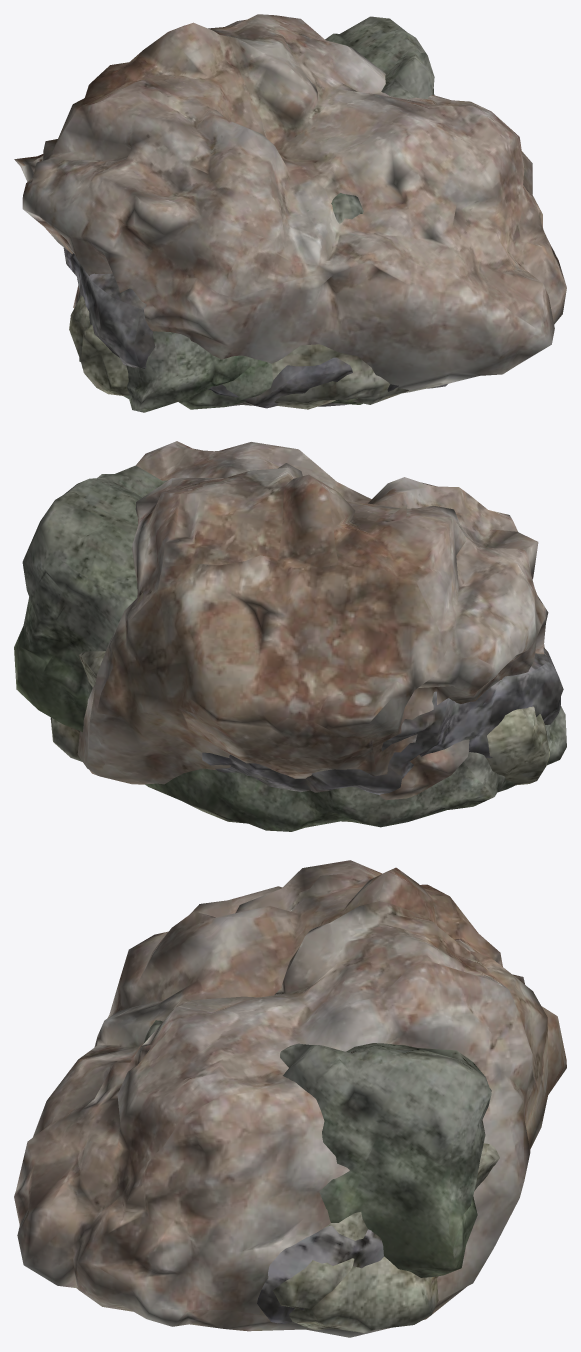
File: namaqualand_rocks_01.glb
The picture shows the model from 3 angles, top to bottom: view 1: azimuth 30°, elevation 25°; view 2: azimuth 150°, elevation 25°; view 3: azimuth 270°, elevation 25°; orthographic projection. The views are drawn at different scales.
Visible parts, largest first — view 1: namaqualand_rocks_01_a_LOD0, namaqualand_rocks_01_d_LOD0, namaqualand_rocks_01_c_LOD0, namaqualand_rocks_01_b_LOD0; view 2: namaqualand_rocks_01_a_LOD0, namaqualand_rocks_01_d_LOD0, namaqualand_rocks_01_c_LOD0, namaqualand_rocks_01_b_LOD0; view 3: namaqualand_rocks_01_a_LOD0, namaqualand_rocks_01_d_LOD0, namaqualand_rocks_01_b_LOD0, namaqualand_rocks_01_c_LOD0.
Part boxes in pixels (x1,y1,x2,y2): namaqualand_rocks_01_a_LOD0: (14,14,566,393); namaqualand_rocks_01_d_LOD0: (79,16,434,412); namaqualand_rocks_01_c_LOD0: (63,247,447,408); namaqualand_rocks_01_b_LOD0: (69,295,408,409); namaqualand_rocks_01_a_LOD0: (77,441,548,800); namaqualand_rocks_01_d_LOD0: (14,465,566,831); namaqualand_rocks_01_c_LOD0: (202,647,563,794); namaqualand_rocks_01_b_LOD0: (50,651,549,785); namaqualand_rocks_01_a_LOD0: (14,860,566,1337); namaqualand_rocks_01_d_LOD0: (143,1007,491,1277); namaqualand_rocks_01_b_LOD0: (272,1143,499,1332); namaqualand_rocks_01_c_LOD0: (257,1225,384,1323).
Size of what is drawn, in the model's own units: 0.2247 by 0.1511 by 0.2155.
Materials: 1 (1 with a texture image).
